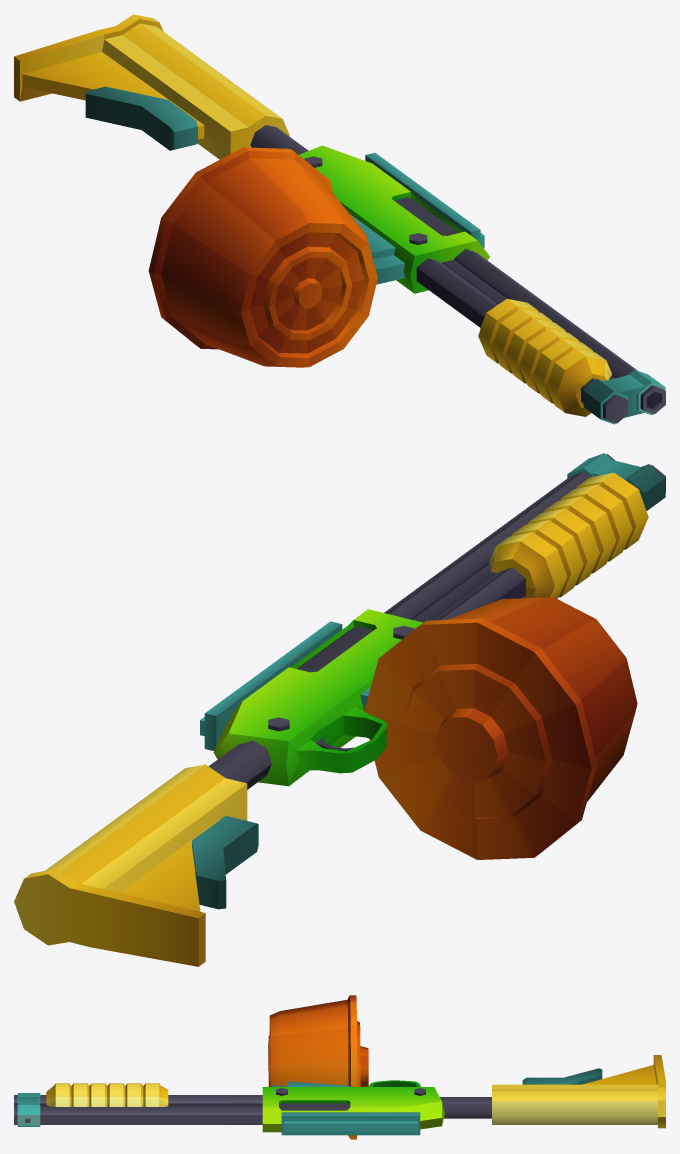
The model's file is Shotgun_LVL2.fbx.
The picture shows the model from 3 angles, top to bottom: view 1: azimuth 30°, elevation 25°; view 2: azimuth 150°, elevation 25°; view 3: azimuth 270°, elevation 25°; orthographic projection. The views are drawn at different scales.
Visible parts, largest first — view 1: Object005; view 2: Object005; view 3: Object005.
Boxes of the visible parts, left/top/right/bottom form: Object005: left=14, top=14, right=665, bottom=424; Object005: left=14, top=453, right=665, bottom=966; Object005: left=14, top=995, right=665, bottom=1139.
Bounding box in the file's own units: 42.71 × 28.87 × 130.
